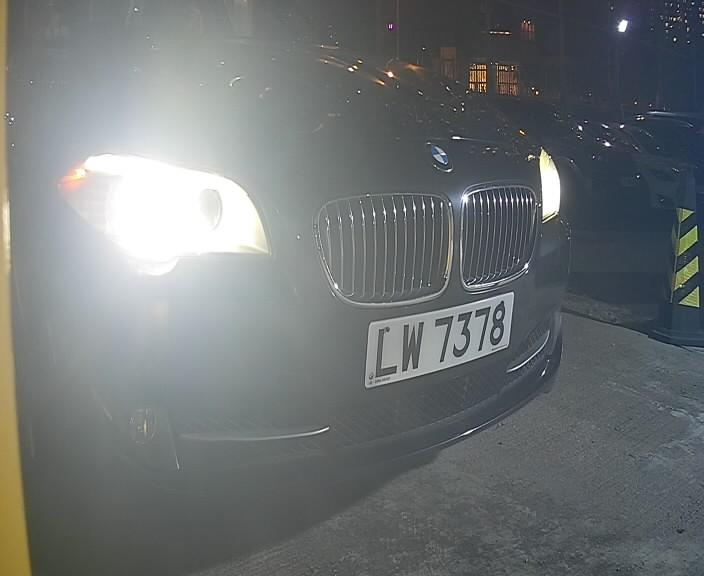License Plate: (353, 281, 519, 389)
